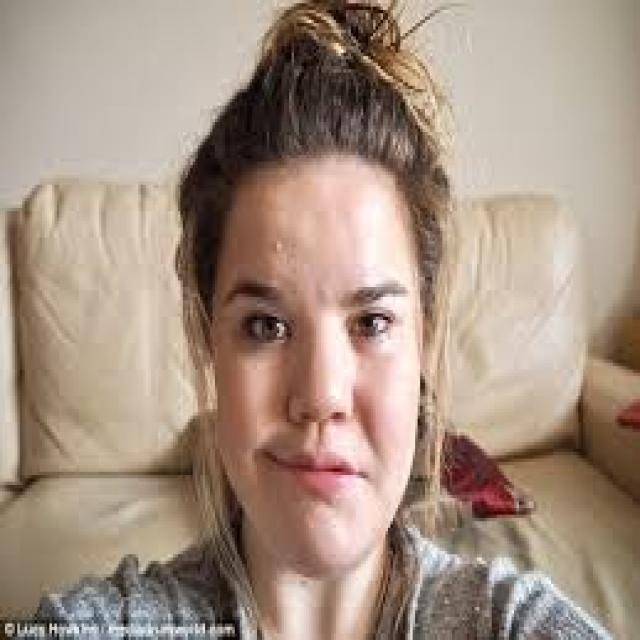stroke_face: (208, 109, 426, 591)
